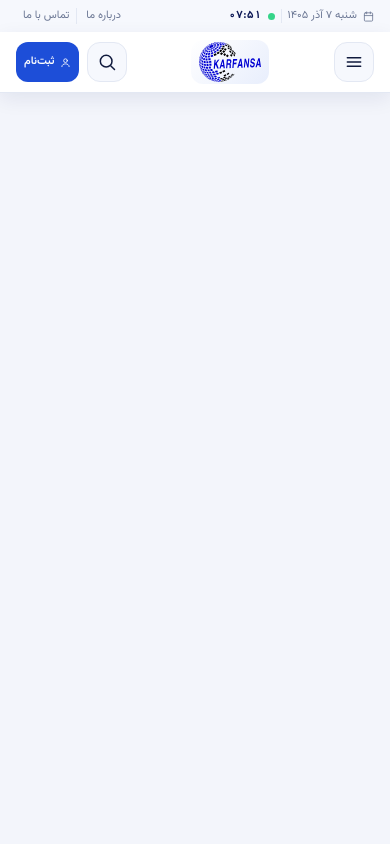
SiteHeader authentication actions › offers the install action in the header and mobile drawer
This screenshot has width=390, height=844.
Later steps or results of the test are not shown.
Click the button named "منو" at (354, 62), box [334,42,374,82]
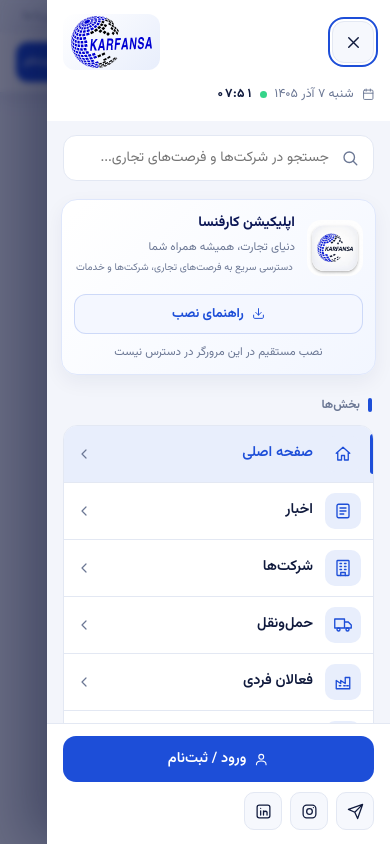
Result: the element "اپلیکیشن کارفنسا" is shown at [61,199,376,375]
Result: the button "راهنمای نصب" is shown at [74,294,363,334]
